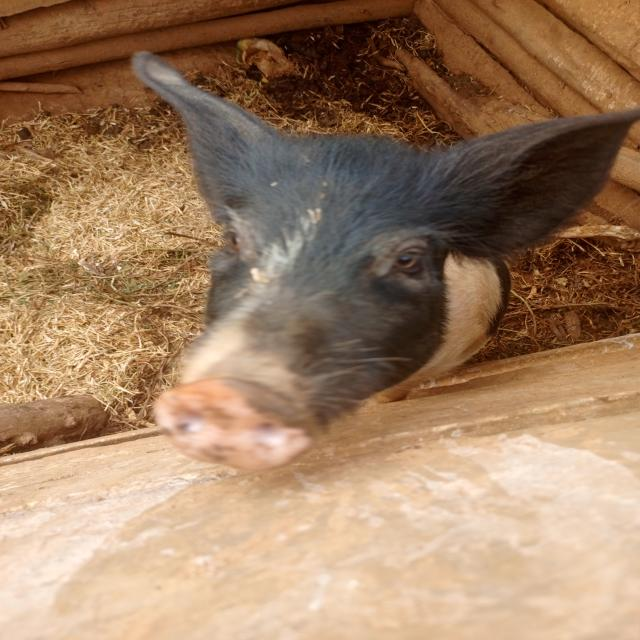pig: (56, 11, 640, 524)
